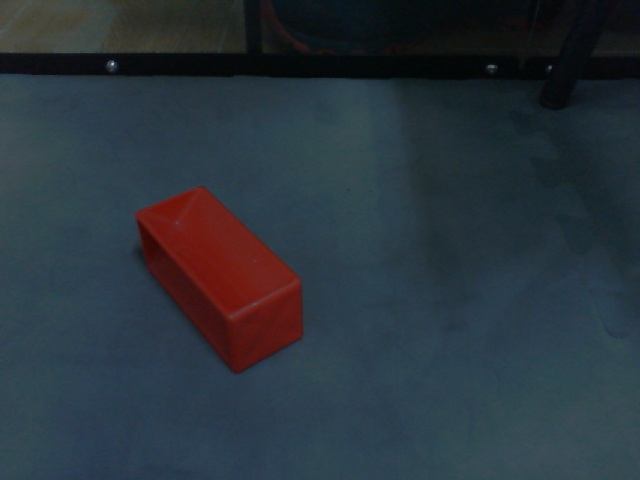RedSample: (132, 182, 307, 376)
